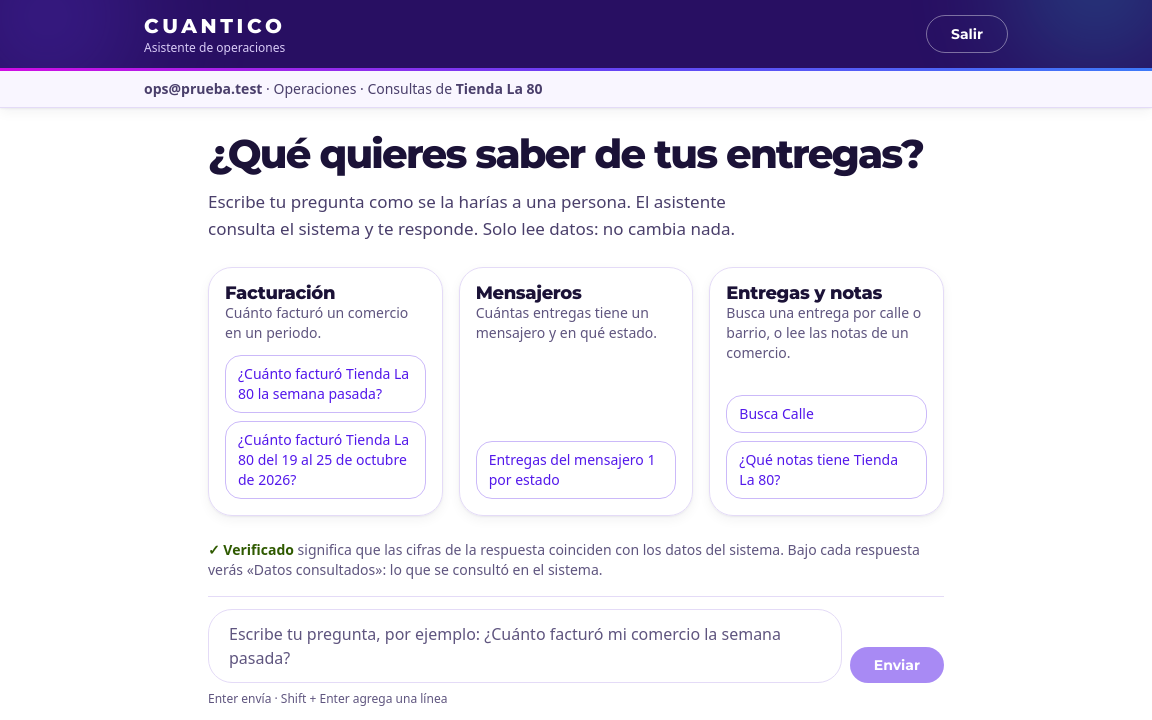
Test: ChatPage › muestra el error y permite reintentar sin duplicar la pregunta
Type "hola" into the text box named "Mensaje" at (525, 646), box [208,609,842,683]
Then press Enter
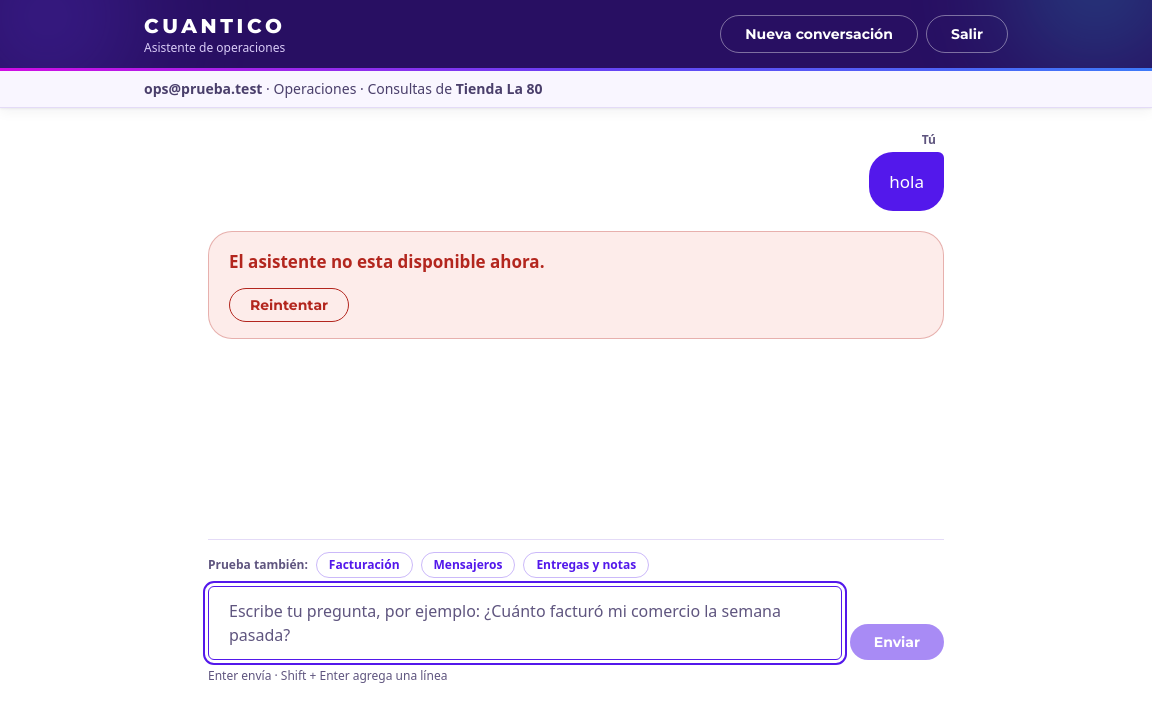
expect the text "El asistente no esta disponible ahora." is shown: met, box [229,248,544,276]
Click the button "Reintentar" at (289, 305), box [229,288,349,322]
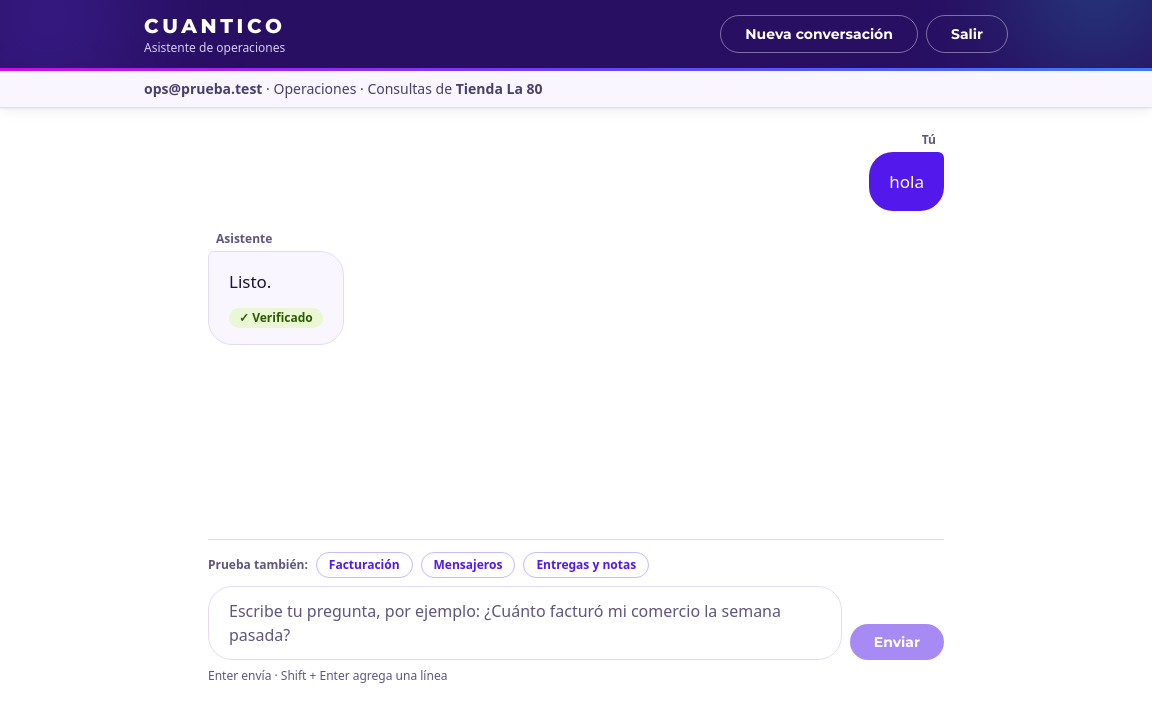
expect the text "Listo." is shown: met, box [229,270,271,293]
expect the text "hola" is shown once: met, box [889,168,924,195]
